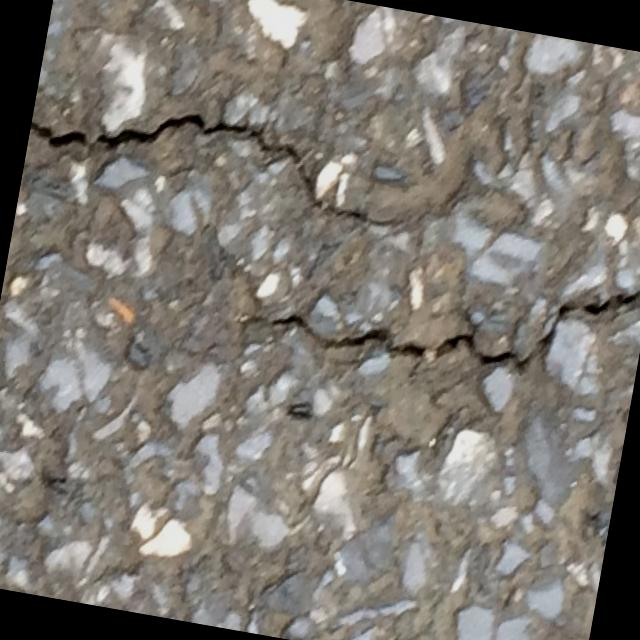crack: (0, 57, 640, 426)
